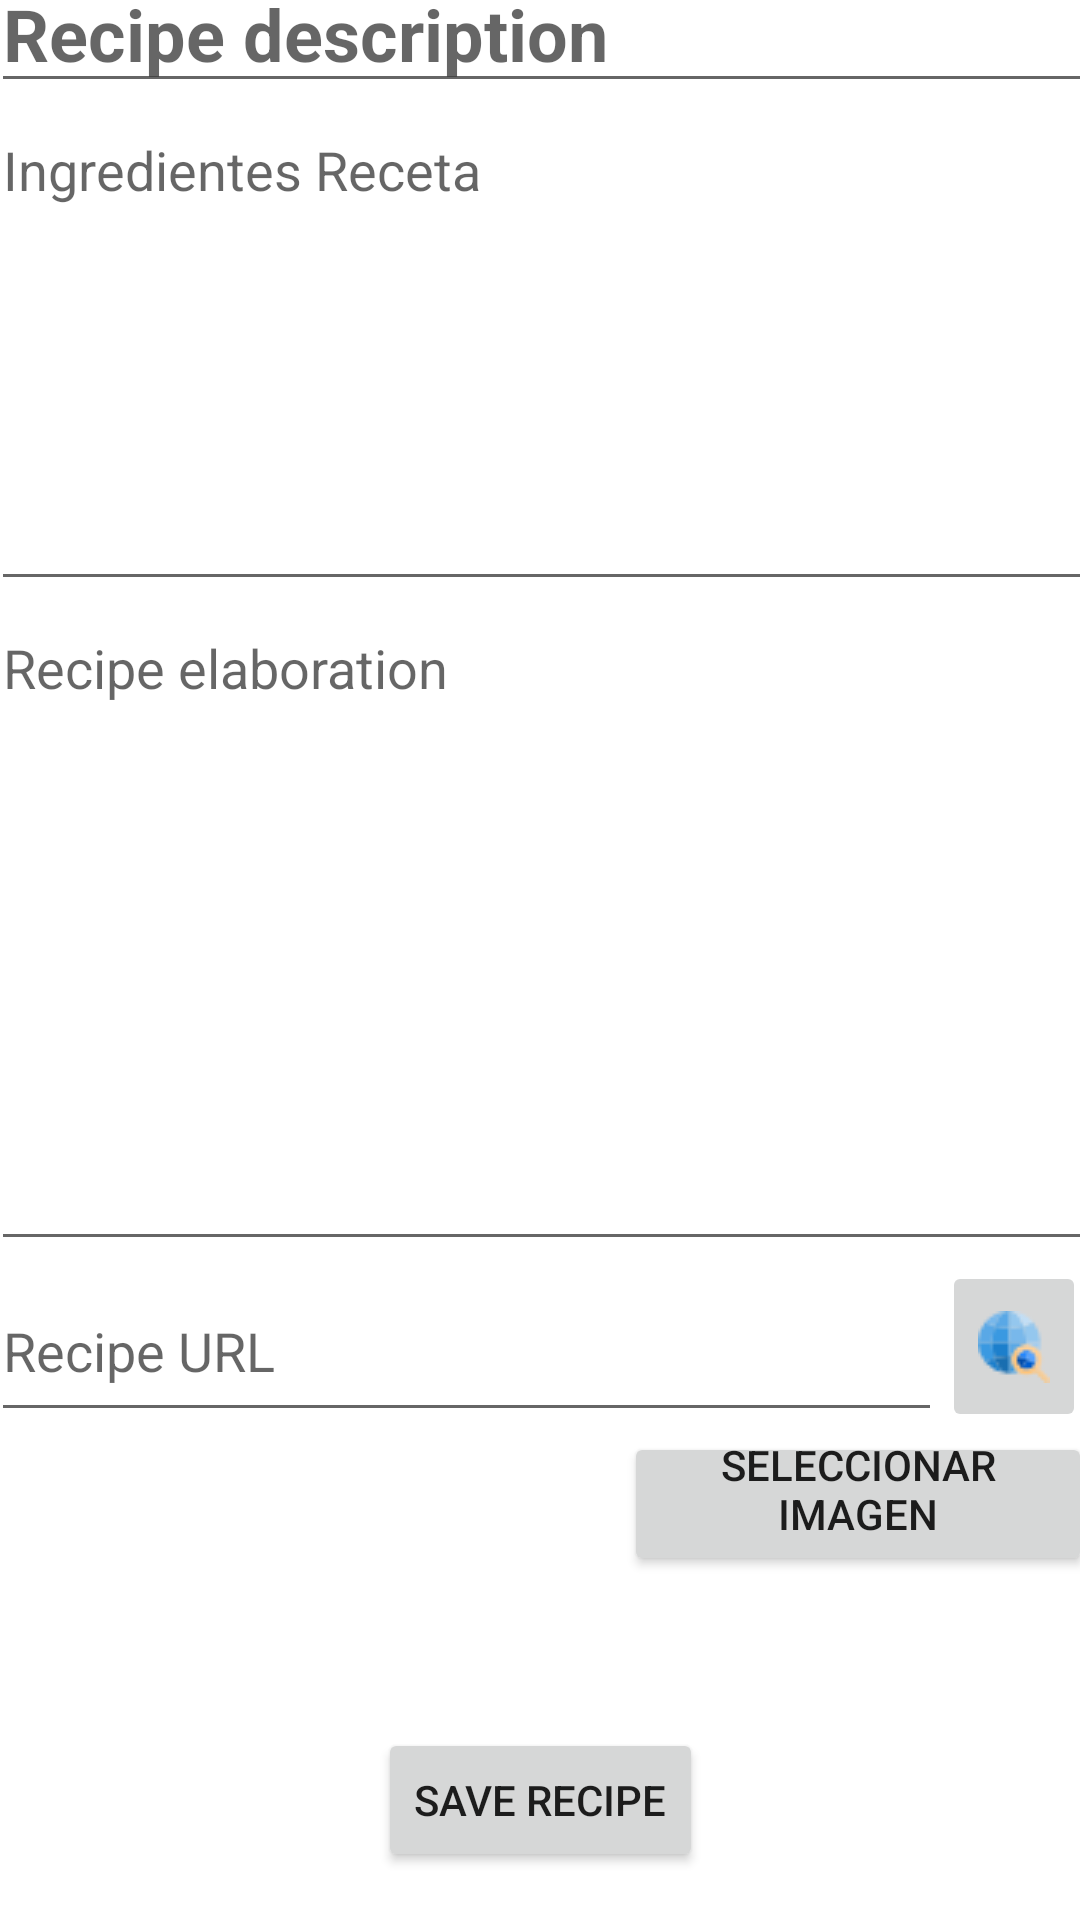

Icons on this 1080×1920 Android screen, each with its box as [left=x1, top=y1, right=x2, bottom=y2]:
buscar: [left=954, top=1279, right=1074, bottom=1414]
